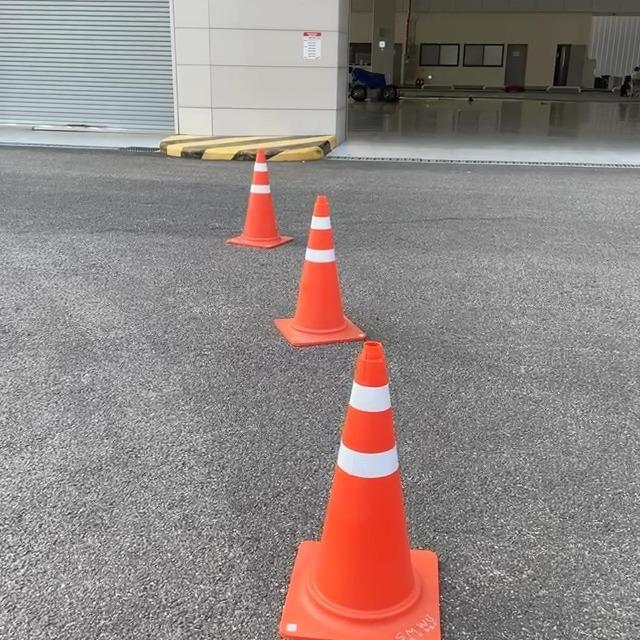fallen_object: (275, 320, 472, 640), (237, 173, 381, 345), (213, 116, 298, 253)
